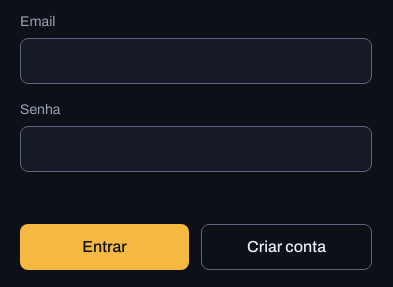
Test case: EntrarForm › cadastro sem sessão (confirmação por email ligada): avisa em vez de ficar parado
The width and height of the screenshot is (393, 287).
Step 1. Type "ana@exemplo.com" into the field labelled "Email" → {"x": 196, "y": 61}, box [20, 38, 372, 84]
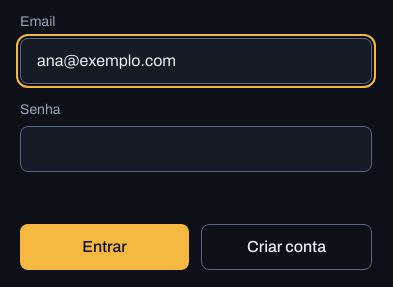
Step 2. Type "segredo123" into the password field labelled "Senha" → {"x": 196, "y": 149}, box [20, 126, 372, 172]
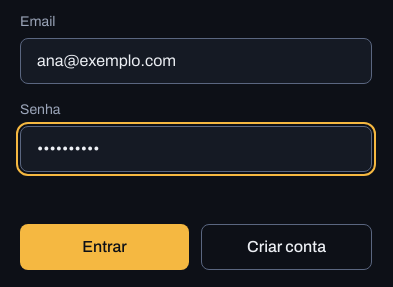
Step 3. Click the button "Criar conta" → {"x": 286, "y": 247}, box [201, 224, 372, 270]
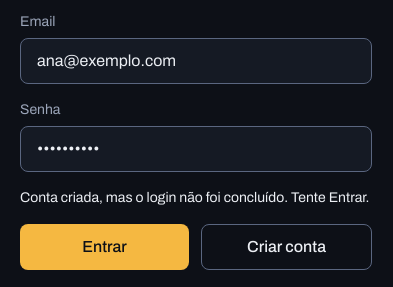
Expected: the text "Conta criada, mas o login não foi concluído. Tente Entrar." is shown, [20, 188, 372, 208]
